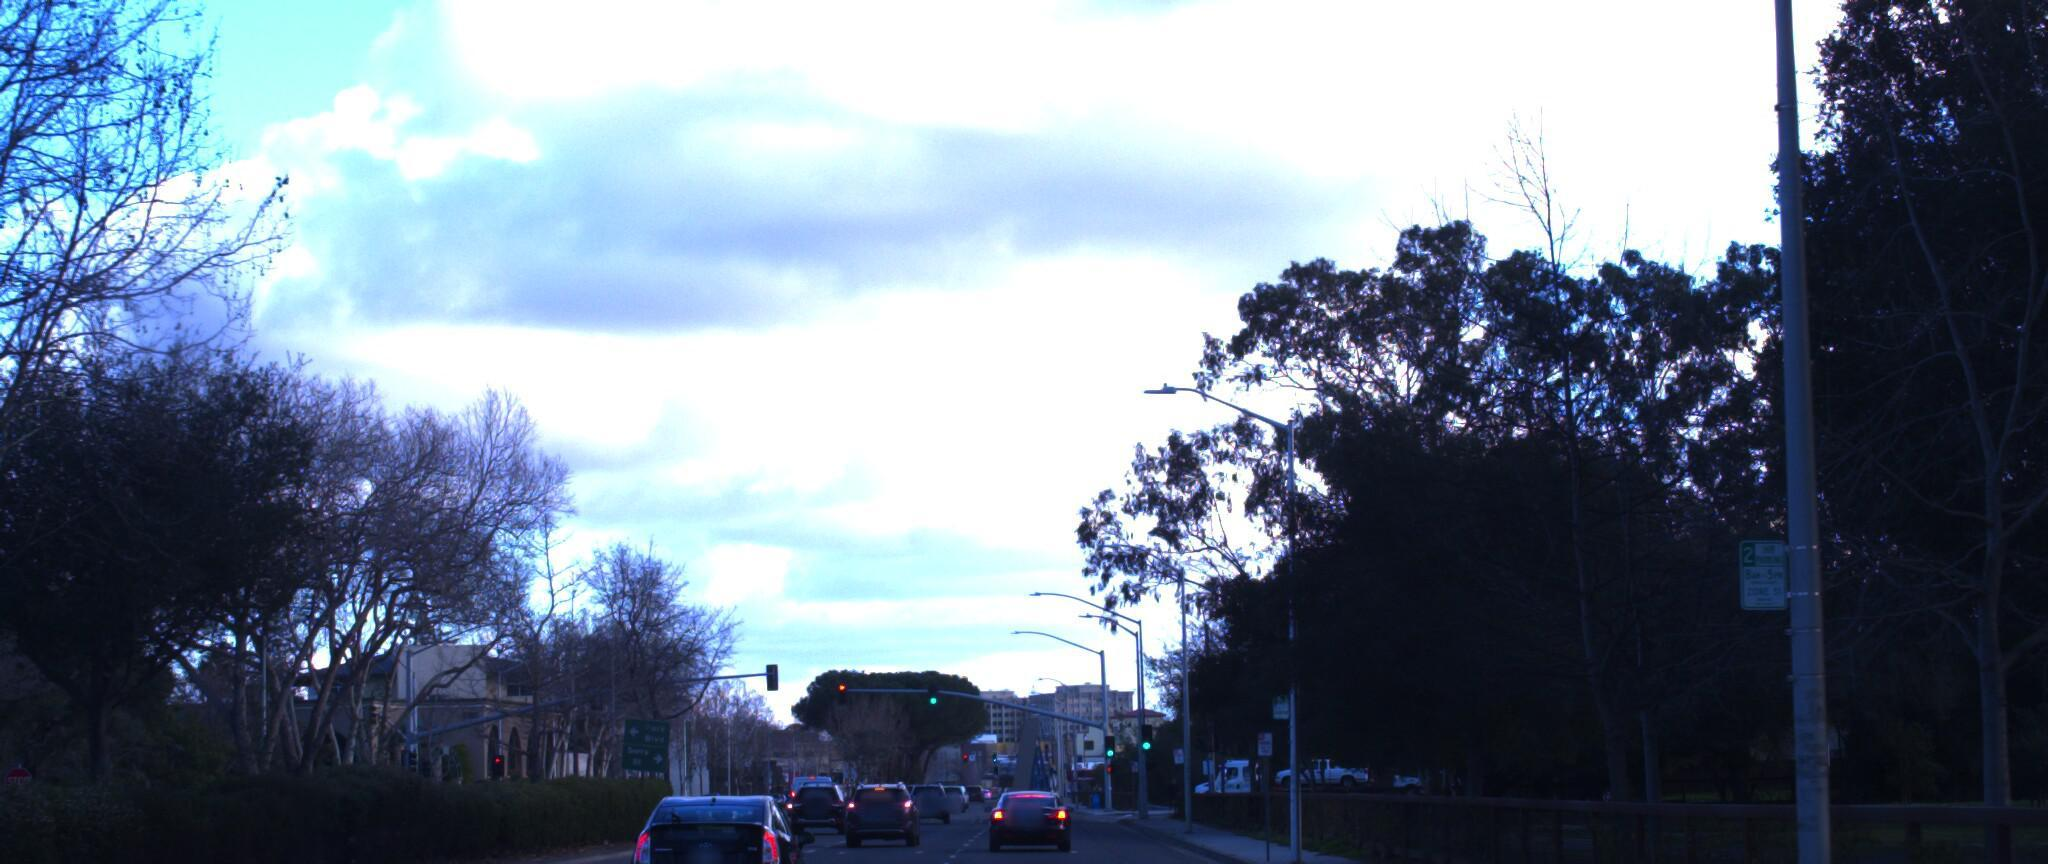car: (631, 761, 822, 864), (848, 756, 927, 824), (987, 766, 1068, 830)
